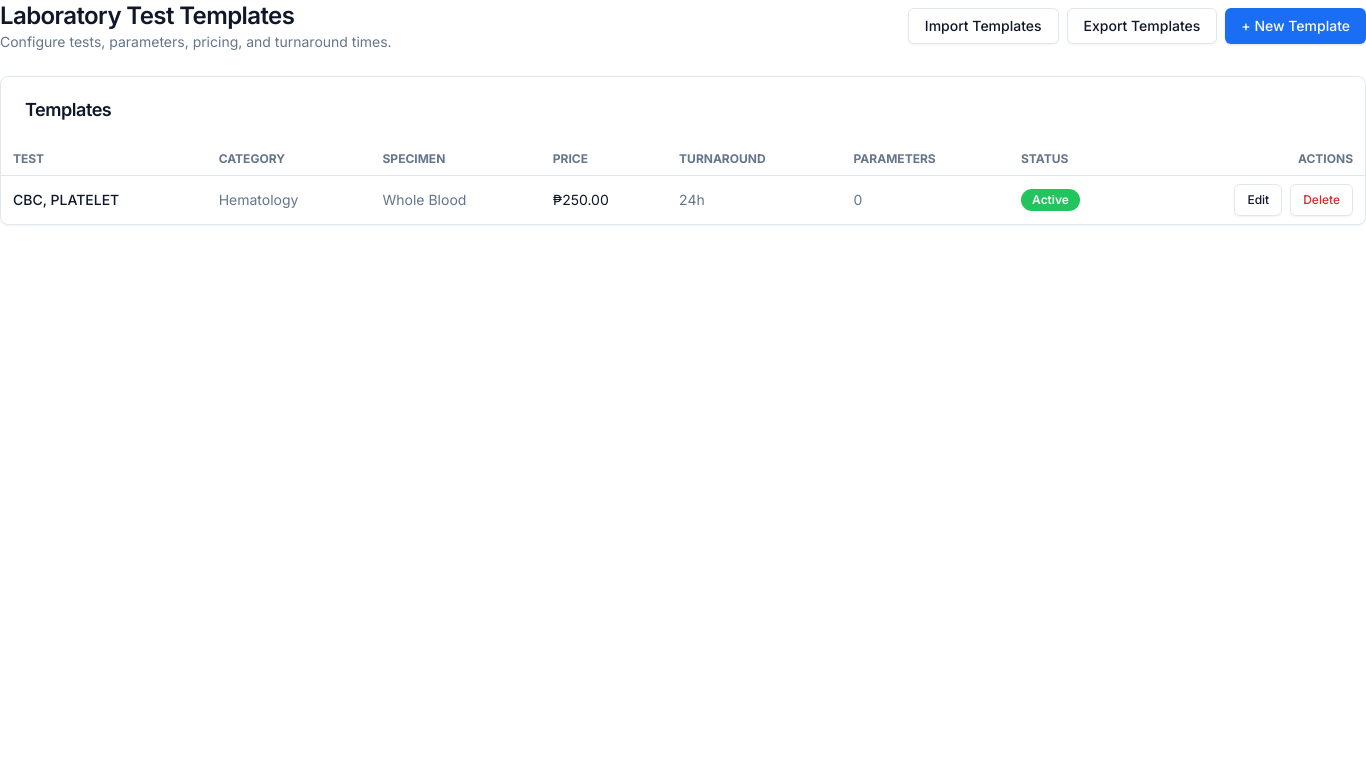
it: LaboratoryTemplatesPage - Delete template › 5: a successful deletion closes the dialog (list refresh + toast happen inside the hook)
The image size is (1366, 768).
Step 1. Click the button "Delete" → (1322, 200), box [1290,184,1353,216]
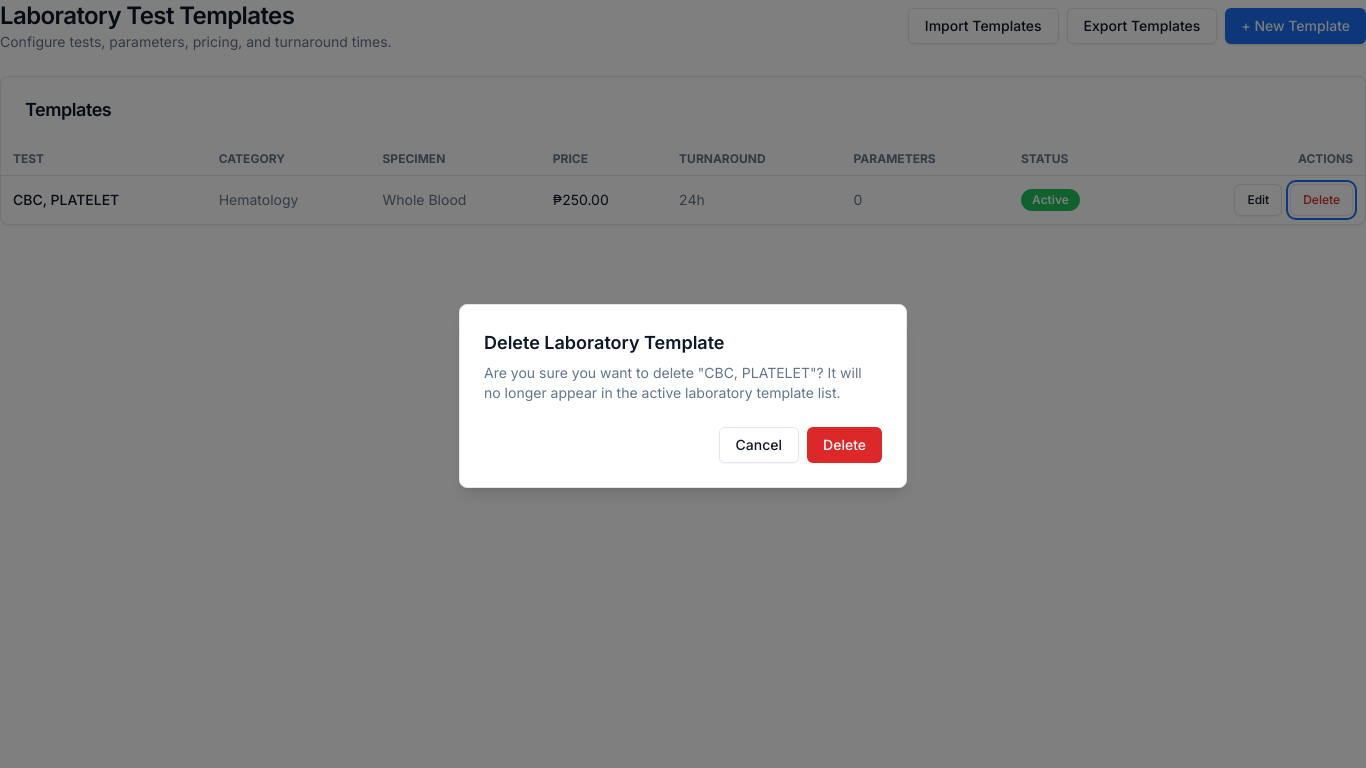
Step 2. Click the button "Delete" → (845, 445), box [807,427,882,463]
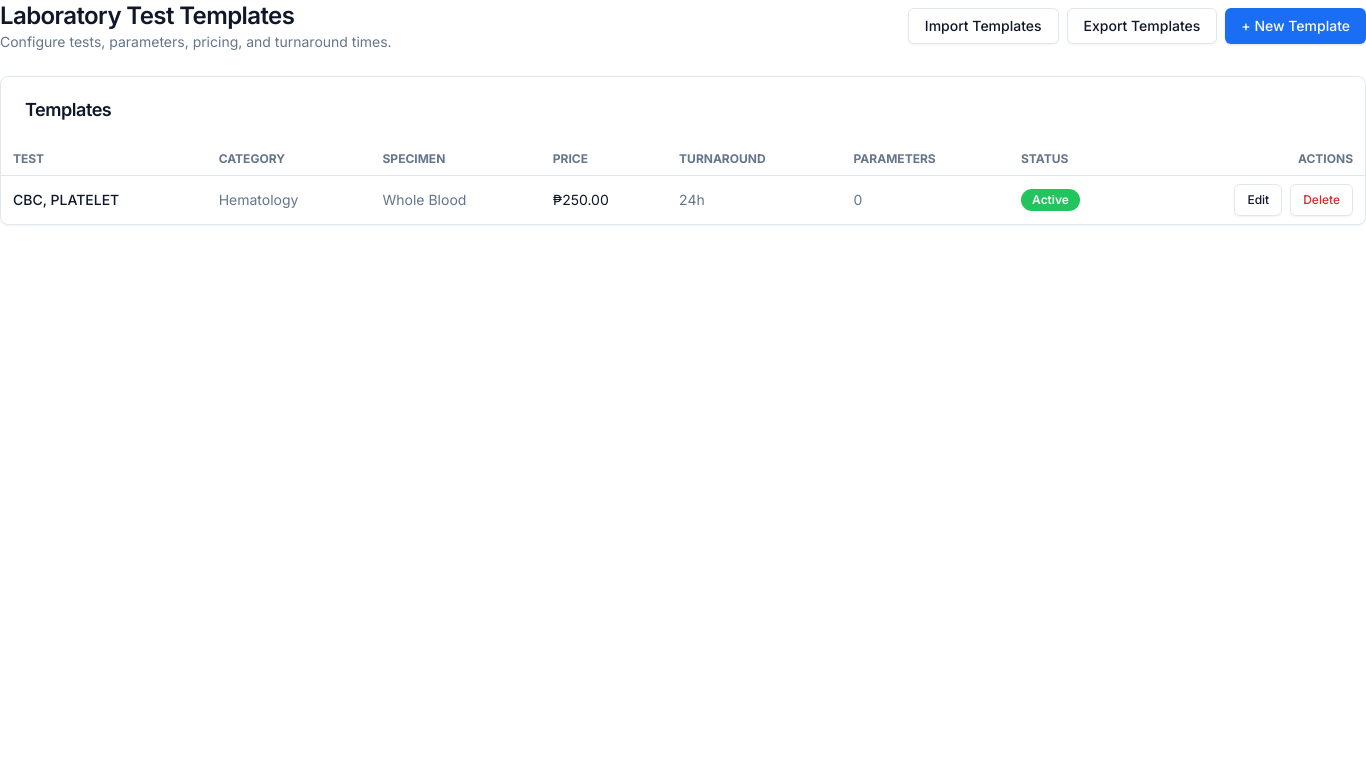
Expected: the heading "Delete Laboratory Template" is gone
